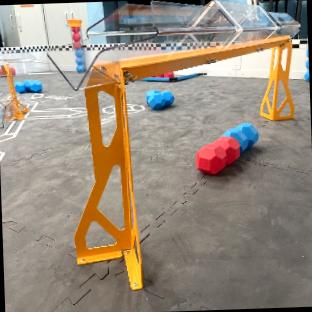V5_BLUE: (223, 123, 258, 150), (146, 89, 174, 109), (15, 80, 42, 92)
V5_RED: (197, 134, 240, 175)
